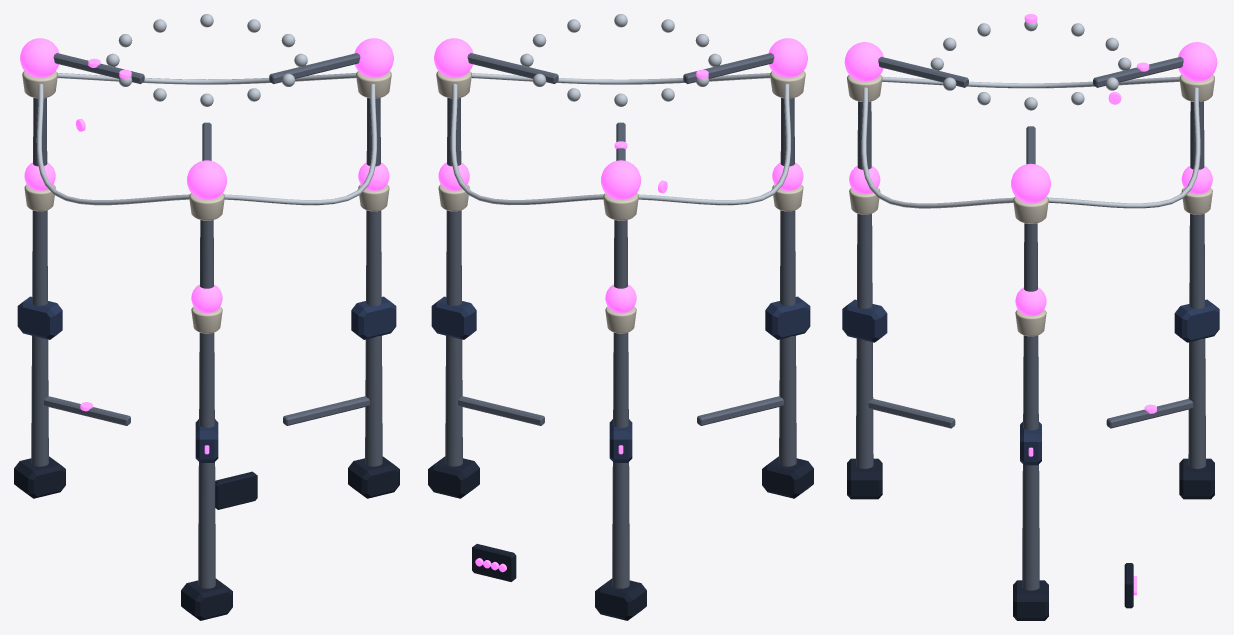
Rendered from tower_arc_range_s9.glb.
The picture shows the model from 3 angles, left to right: view 1: azimuth 30°, elevation 25°; view 2: azimuth 150°, elevation 25°; view 3: azimuth 270°, elevation 25°; orthographic projection.
Parts seen in each view (by area): view 1: arc_sat_strut2, arc_sat_strut0, arc_sat_strut1, arc_sat_foot0, arc_sat_foot1, arc_sat_foot2, arc_ioniser0, arc_ioniser1, arc_relay_wire1, arc_relay_wire2, arc_relay_wire0, arc_sat_electrode2 (+17 smaller); view 2: arc_sat_strut0, arc_sat_strut2, arc_sat_strut1, arc_sat_foot1, arc_sat_foot2, arc_sat_foot0, arc_ioniser1, arc_ioniser2, arc_relay_wire2, arc_relay_wire0, arc_relay_wire1, arc_sat_electrode0 (+17 smaller); view 3: arc_sat_strut1, arc_sat_strut0, arc_sat_strut2, arc_ioniser0, arc_ioniser2, arc_relay_wire1, arc_relay_wire0, arc_relay_wire2, arc_sat_foot0, arc_sat_foot2, arc_sat_foot1, arc_sat_electrode1 (+16 smaller).
Boxes of the visible parts, left/top/right/bottom form: arc_sat_strut2: left=198, top=220, right=215, bottom=588; arc_sat_strut0: left=31, top=98, right=48, bottom=466; arc_sat_strut1: left=365, top=98, right=382, bottom=466; arc_sat_foot0: left=14, top=456, right=65, bottom=498; arc_sat_foot1: left=348, top=456, right=399, bottom=498; arc_sat_foot2: left=181, top=578, right=232, bottom=620; arc_ioniser0: left=17, top=296, right=62, bottom=339; arc_ioniser1: left=351, top=296, right=396, bottom=339; arc_relay_wire1: left=224, top=84, right=377, bottom=205; arc_relay_wire2: left=36, top=84, right=189, bottom=205; arc_relay_wire0: left=57, top=73, right=356, bottom=84; arc_sat_electrode2: left=187, top=160, right=226, bottom=199; arc_sat_strut0: left=612, top=220, right=629, bottom=588; arc_sat_strut2: left=779, top=98, right=796, bottom=466; arc_sat_strut1: left=445, top=98, right=462, bottom=466; arc_sat_foot1: left=428, top=456, right=479, bottom=498; arc_sat_foot2: left=762, top=456, right=813, bottom=498; arc_sat_foot0: left=595, top=578, right=646, bottom=620; arc_ioniser1: left=431, top=296, right=476, bottom=339; arc_ioniser2: left=765, top=296, right=810, bottom=339; arc_relay_wire2: left=638, top=84, right=791, bottom=205; arc_relay_wire0: left=450, top=84, right=603, bottom=205; arc_relay_wire1: left=471, top=73, right=770, bottom=84; arc_sat_electrode0: left=601, top=160, right=640, bottom=199; arc_sat_strut1: left=1022, top=223, right=1039, bottom=590; arc_sat_strut0: left=1188, top=101, right=1205, bottom=468; arc_sat_strut2: left=856, top=101, right=873, bottom=468; arc_ioniser0: left=1174, top=299, right=1219, bottom=342; arc_ioniser2: left=842, top=299, right=887, bottom=342; arc_relay_wire1: left=861, top=87, right=1013, bottom=208; arc_relay_wire0: left=1048, top=87, right=1200, bottom=208; arc_relay_wire2: left=882, top=76, right=1179, bottom=88; arc_sat_foot0: left=1179, top=458, right=1214, bottom=499; arc_sat_foot2: left=847, top=458, right=882, bottom=499; arc_sat_foot1: left=1013, top=580, right=1048, bottom=620; arc_sat_electrode1: left=1011, top=163, right=1050, bottom=203.
Size of the model in its own units: 1.75 by 2.5 by 1.69.
